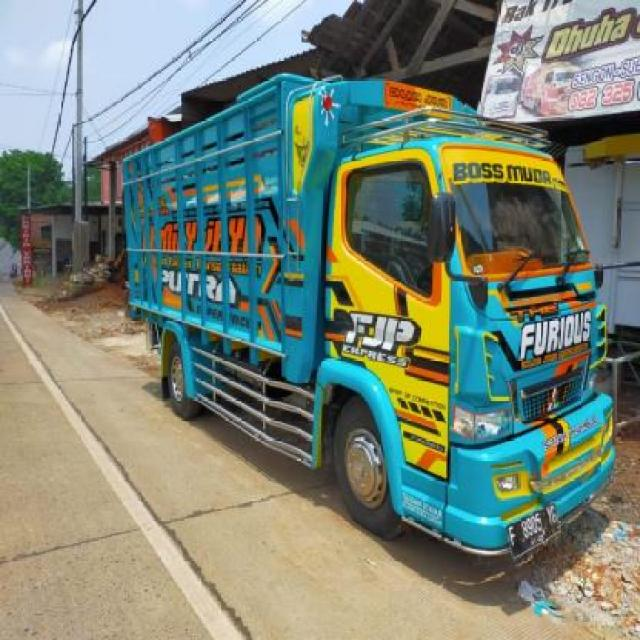truck: (123, 71, 614, 562)
